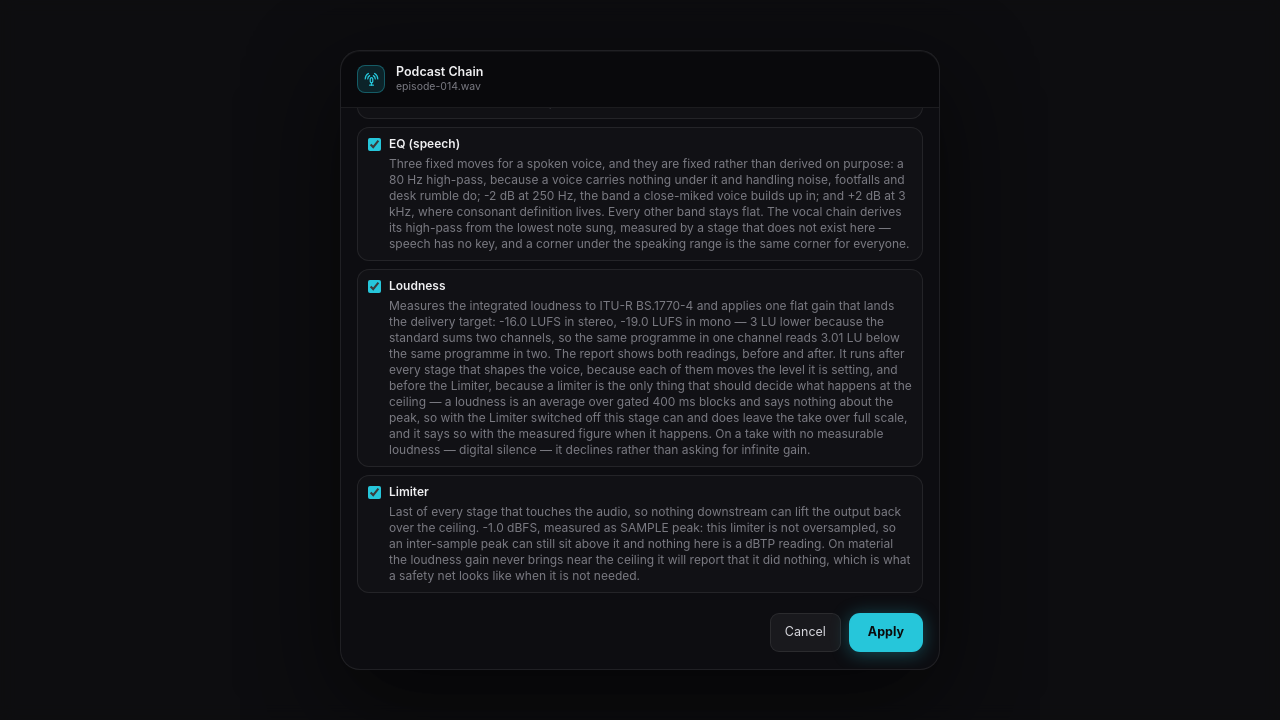
PodcastChainDialog — the report › shows the LUFS before → after row with the report’s own numbers
(page scrolled)
What coordinates should you click on to do the following:
click the button with test id "podcast-chain-apply"
I would click on:
 (886, 633)
Its box is [849, 613, 923, 652].
(page scrolled)
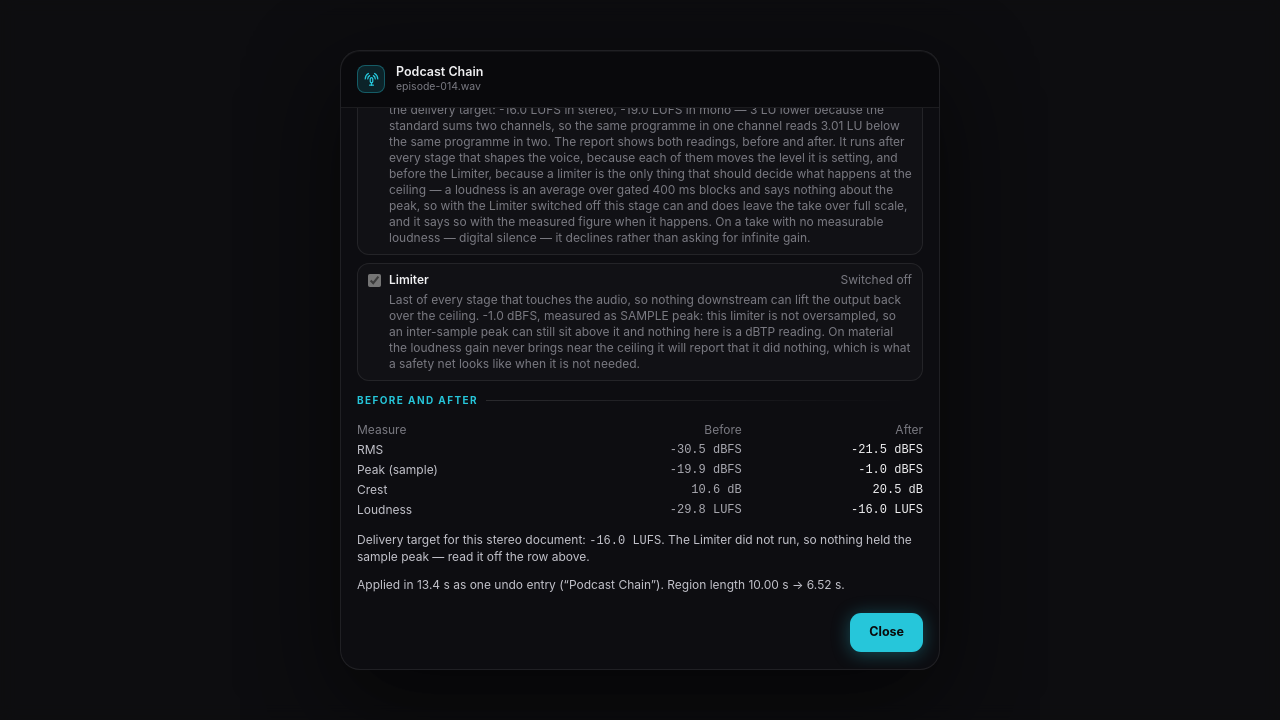
Check: the row with test id "podcast-chain-summary-lufs" shows "-29.8 LUFS", box [670, 503, 742, 517]
Check: the row with test id "podcast-chain-summary-lufs" shows "-16.0 LUFS", box [851, 503, 923, 517]
Check: the row with test id "podcast-chain-summary-lufs" shows "Loudness", box [357, 502, 412, 517]
